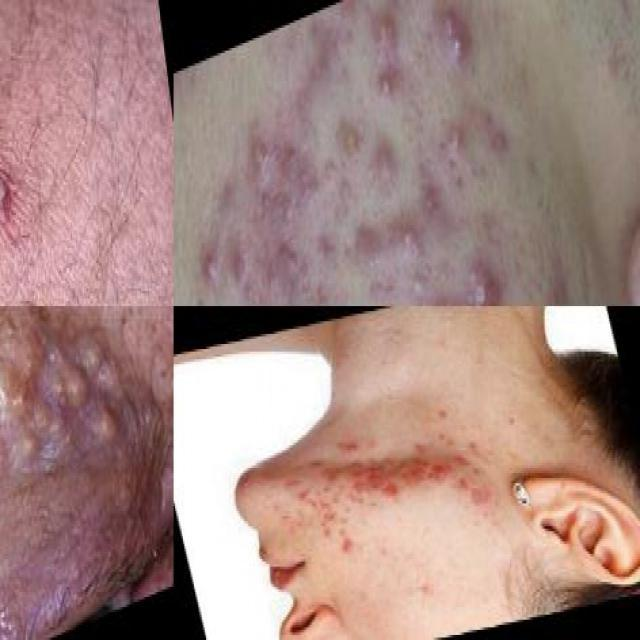Pimples: (0, 306, 137, 536), (254, 169, 324, 296), (352, 442, 434, 508), (448, 235, 508, 306), (426, 0, 477, 81), (429, 111, 474, 177), (240, 98, 274, 184), (289, 486, 343, 536), (0, 142, 23, 246), (423, 448, 468, 490), (227, 236, 257, 298), (364, 0, 398, 53), (192, 236, 223, 292), (372, 63, 400, 124), (393, 213, 423, 263), (340, 108, 366, 164), (156, 332, 173, 404), (326, 528, 364, 560), (428, 283, 453, 306)
